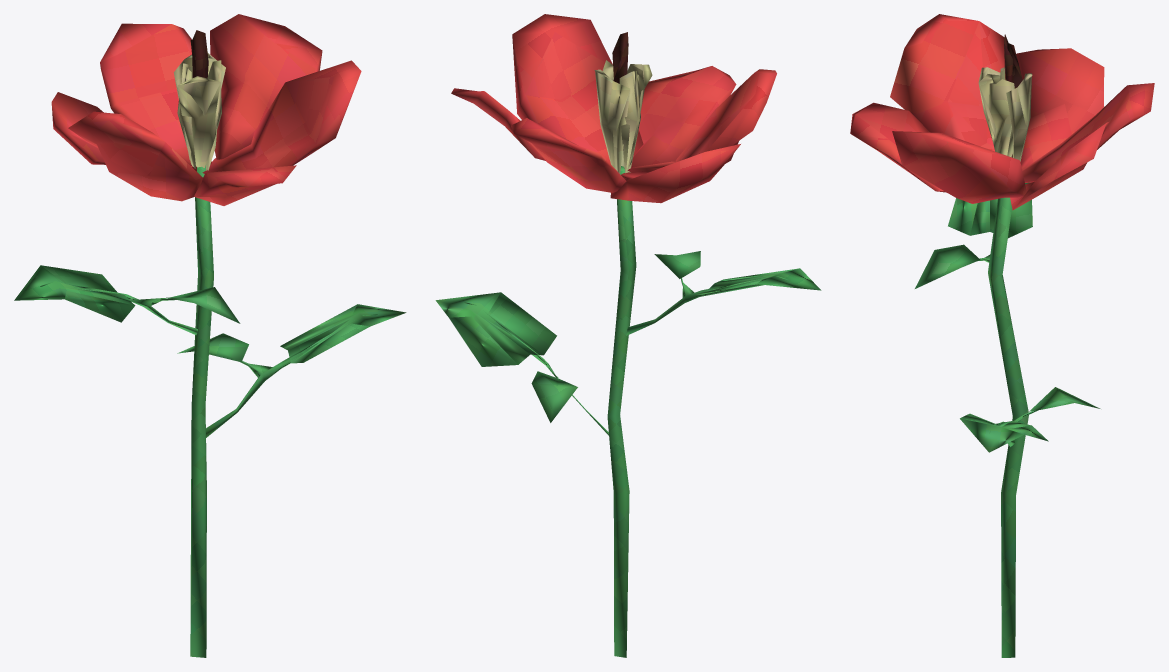
The model's file is red_lily.fbx.
3 renders of one model, left to right at view 1: azimuth 30°, elevation 25°; view 2: azimuth 150°, elevation 25°; view 3: azimuth 270°, elevation 25°, orthographic.
Parts seen in each view (by area): view 1: red_lily; view 2: red_lily; view 3: red_lily.
Boxes of the visible parts, <box> form: red_lily: <box>14,14,406,657</box>; red_lily: <box>435,14,821,657</box>; red_lily: <box>850,14,1154,657</box>.
Bounding box in the file's own units: 30.86 × 47.37 × 21.07.
